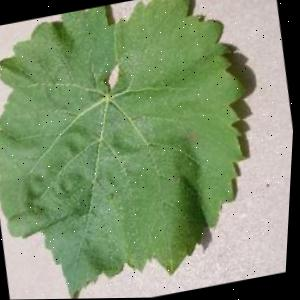Folha: (0, 0, 282, 300)
